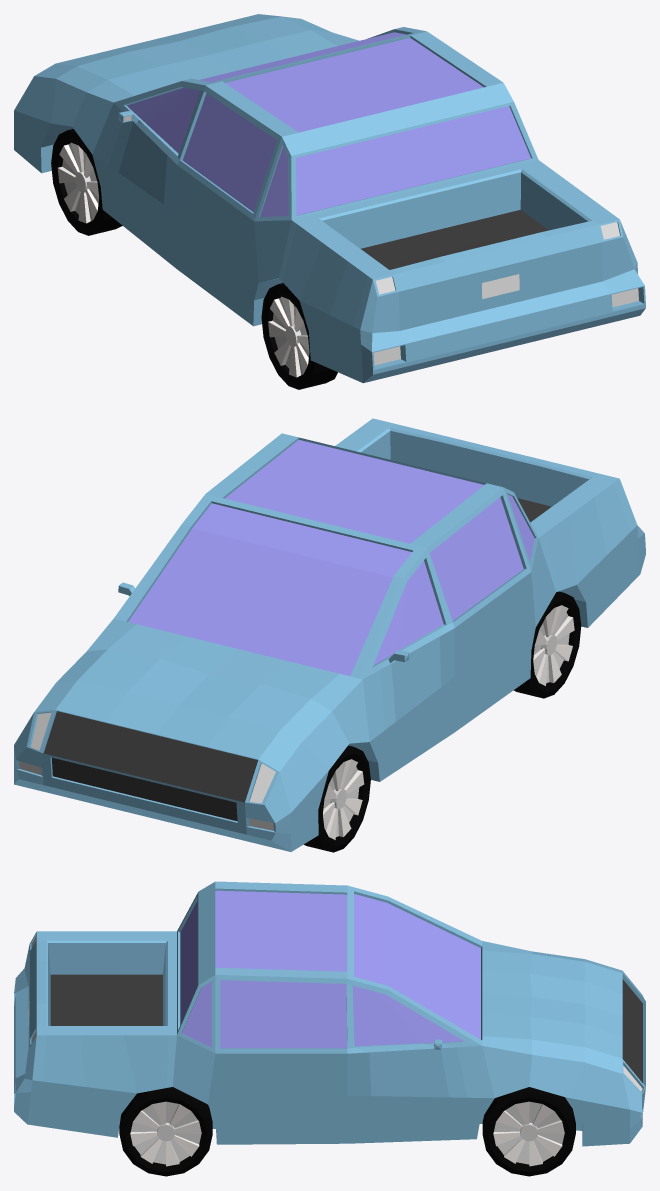
The model's file is Car.fbx.
3 renders of one model, top to bottom at view 1: azimuth 30°, elevation 25°; view 2: azimuth 150°, elevation 25°; view 3: azimuth 270°, elevation 25°, orthographic. The views are drawn at different scales.
Parts seen in each view (by area): view 1: Car, BLTire, FLTire; view 2: Car, FLTire, BLTire; view 3: Car, FRTire, BRTire.
Part boxes in pixels (<box>): Car: <box>14,14,645,383</box>; BLTire: <box>261,283,337,389</box>; FLTire: <box>51,129,122,235</box>; Car: <box>14,418,645,851</box>; FLTire: <box>304,745,370,852</box>; BLTire: <box>513,591,581,698</box>; Car: <box>14,881,645,1146</box>; FRTire: <box>482,1087,575,1176</box>; BRTire: <box>119,1087,212,1176</box>.
Bounding box in the file's own units: 203 × 150 × 447.
